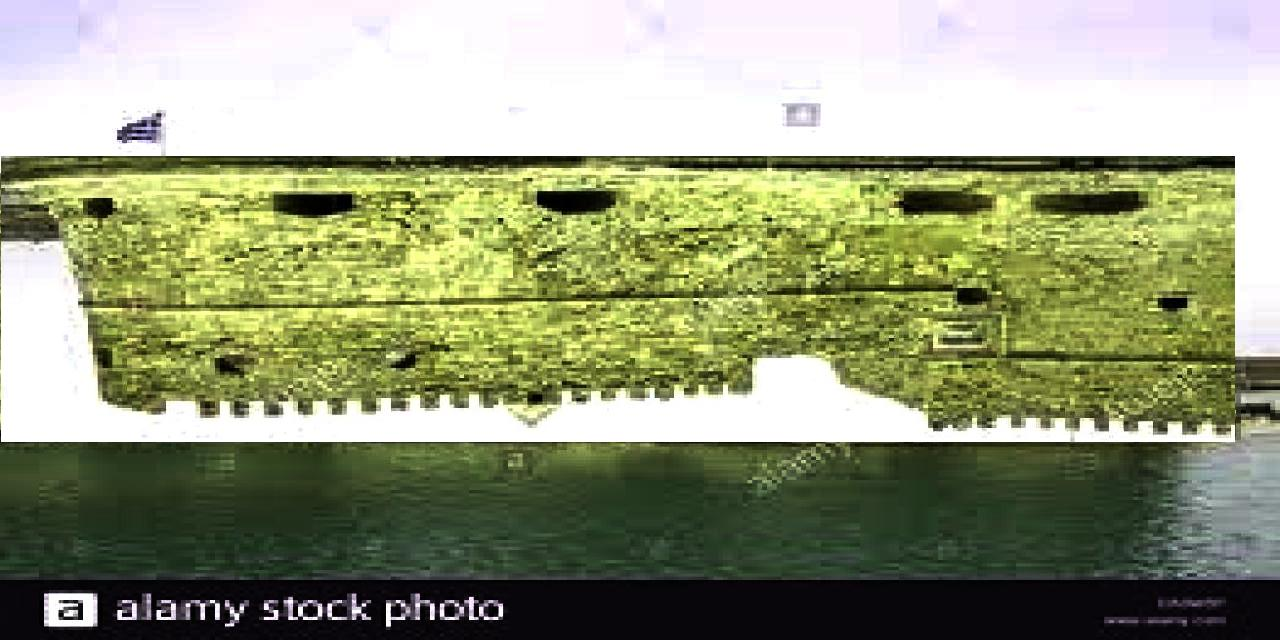Kules: (2, 157, 1236, 443)
